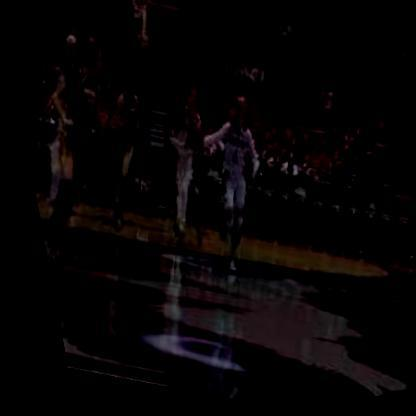basketball: (176, 126, 204, 156)
